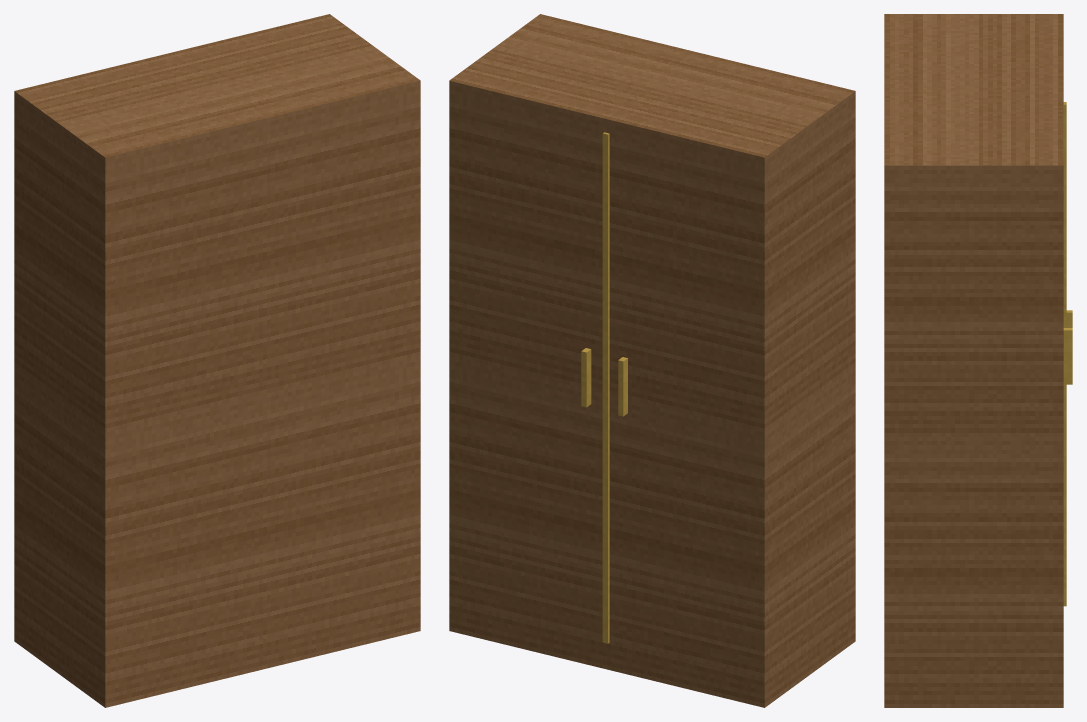
The model's file is wardrobe.glb.
The picture shows the model from 3 angles, left to right: view 1: azimuth 30°, elevation 25°; view 2: azimuth 150°, elevation 25°; view 3: azimuth 270°, elevation 25°; orthographic projection.
Parts seen in each view (by area): view 1: wardrobe; view 2: wardrobe; view 3: wardrobe.
Part boxes in pixels (x1,y1,x2,y2): wardrobe: (14, 14, 420, 707); wardrobe: (449, 14, 855, 707); wardrobe: (884, 14, 1072, 707).
Size of the model in its own units: 1.2 by 2 by 0.63.
Materials: 2 (2 with a texture image).
